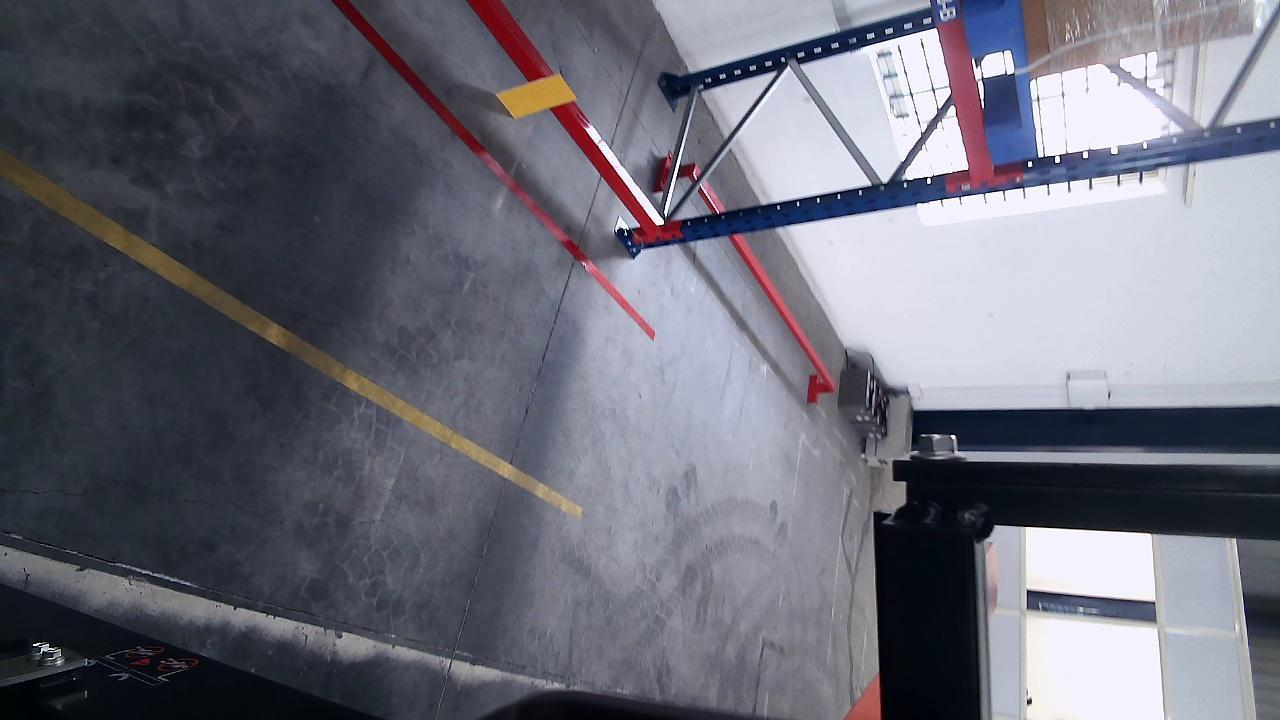red_line: (331, 0, 657, 343)
yellow_line: (0, 144, 579, 516)
